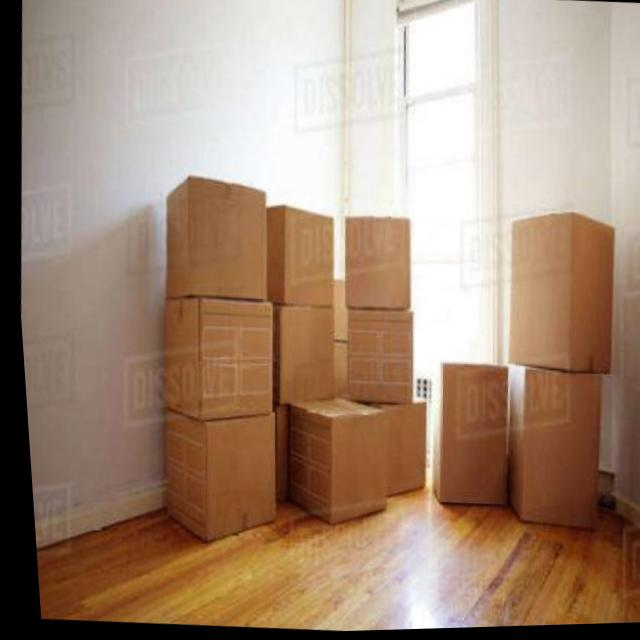box: (488, 194, 625, 399), (137, 386, 291, 553), (497, 354, 615, 571), (273, 388, 400, 544), (141, 284, 284, 421), (148, 166, 276, 312), (416, 351, 519, 527), (328, 190, 421, 333), (256, 288, 359, 412), (257, 176, 341, 318), (328, 299, 425, 406), (353, 386, 434, 507)
